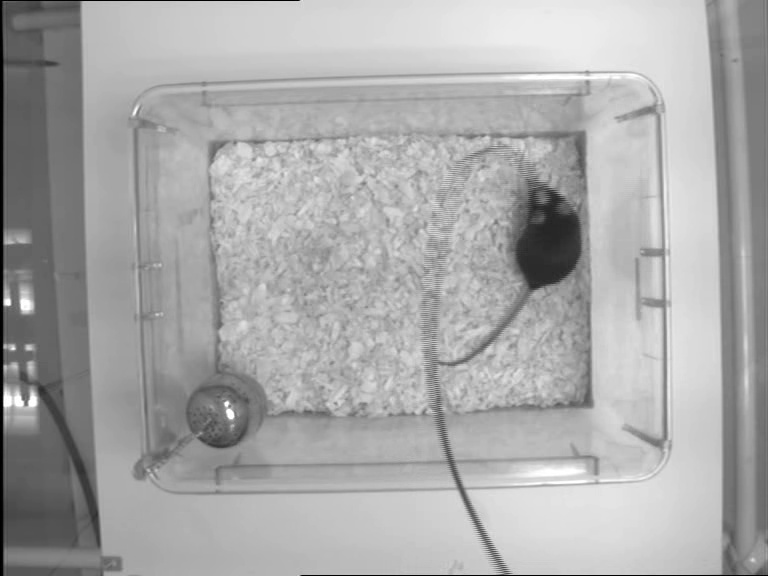mice: (435, 180, 581, 368)
